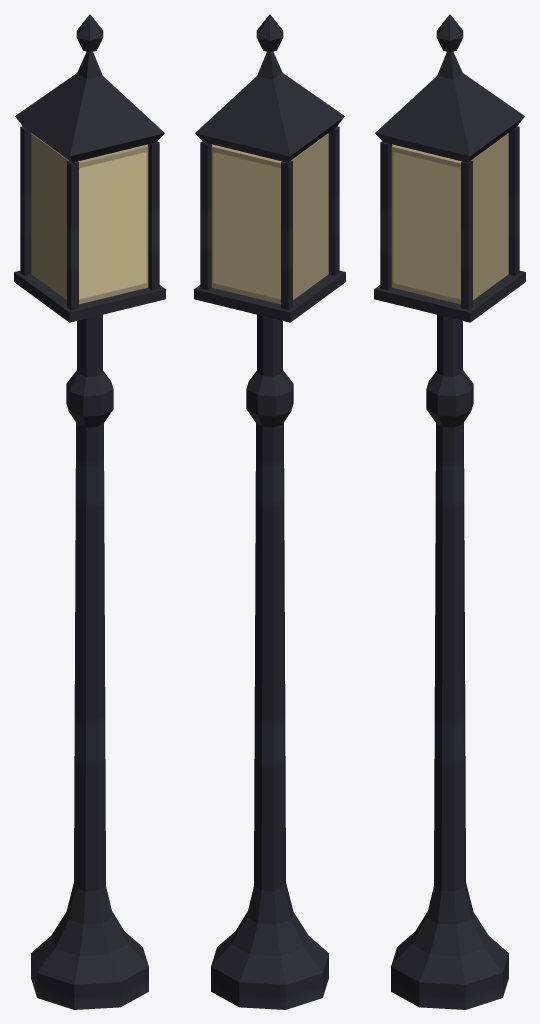
File: Farol.fbx
The picture shows the model from 3 angles, left to right: view 1: azimuth 30°, elevation 25°; view 2: azimuth 150°, elevation 25°; view 3: azimuth 330°, elevation 25°; orthographic projection.
Visible parts, largest first — view 1: Poste, Vidrio; view 2: Poste, Vidrio; view 3: Poste, Vidrio.
Boxes of the visible parts, x1,y1,x2,y2 form: Poste: (14, 14, 165, 1009); Vidrio: (31, 133, 148, 304); Poste: (194, 14, 345, 1009); Vidrio: (211, 133, 328, 304); Poste: (374, 14, 525, 1009); Vidrio: (391, 133, 508, 304).
Bounding box in the file's own units: 1.1 × 9.65 × 1.1.
1 material, 1 textured.
